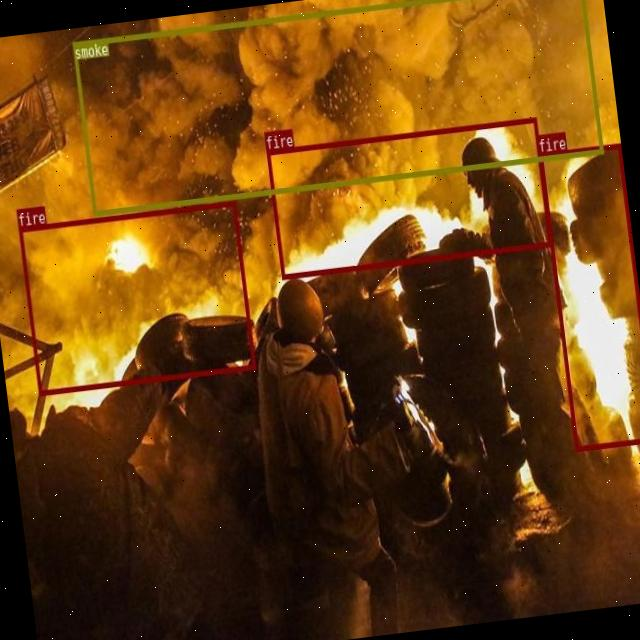fire: (266, 116, 552, 278), (18, 200, 256, 394), (538, 142, 640, 450)
smoke: (71, 0, 602, 215)
